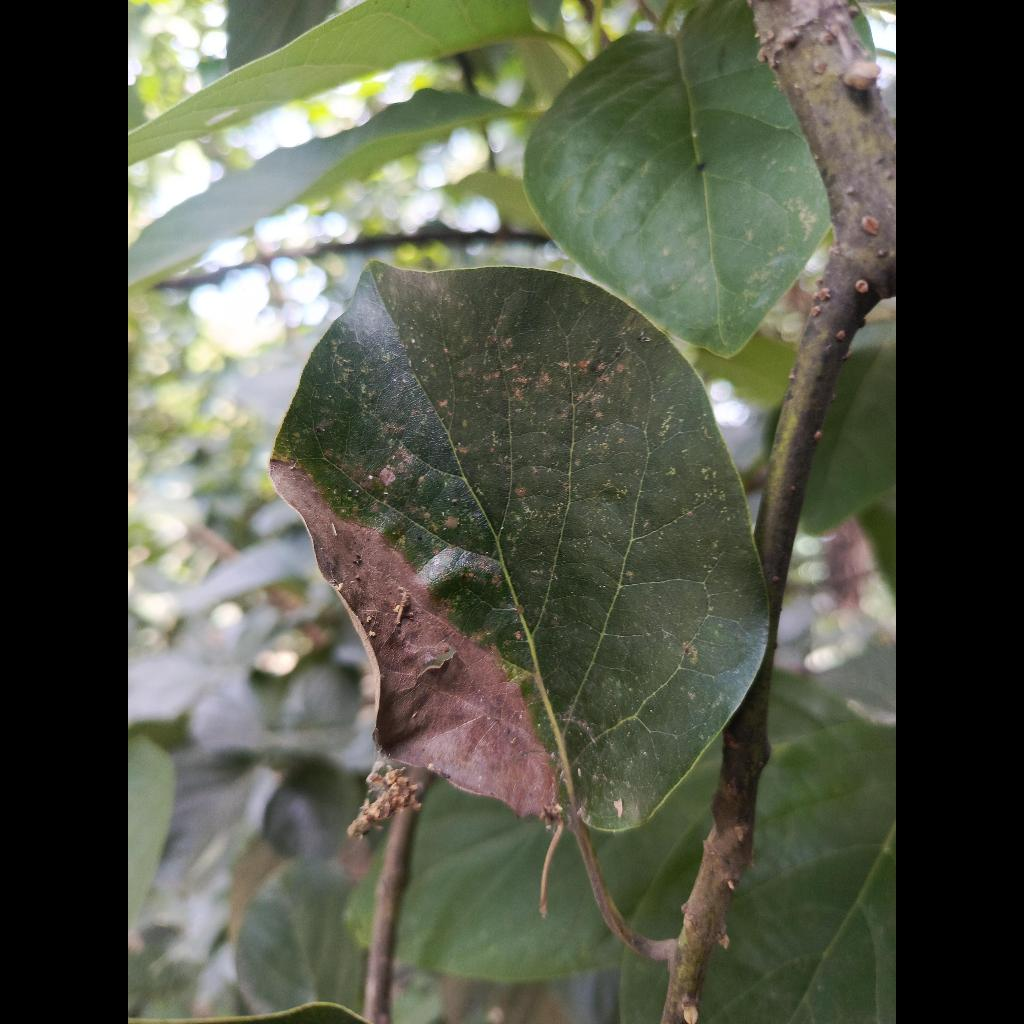Anthracnose: (271, 261, 767, 830)
